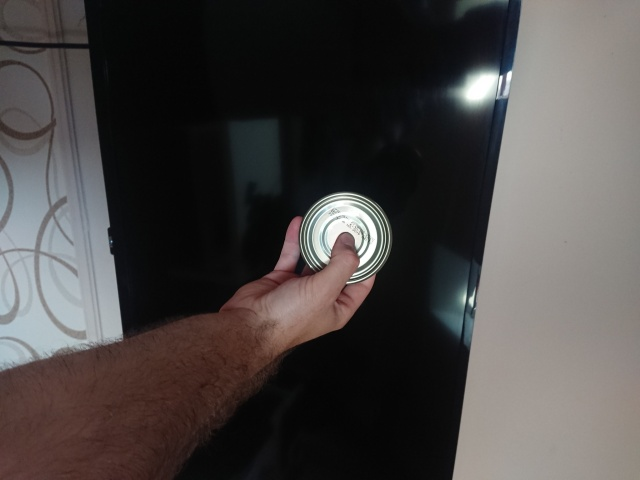Giana Tuna Salad Mexico 185g: (296, 190, 395, 287)
